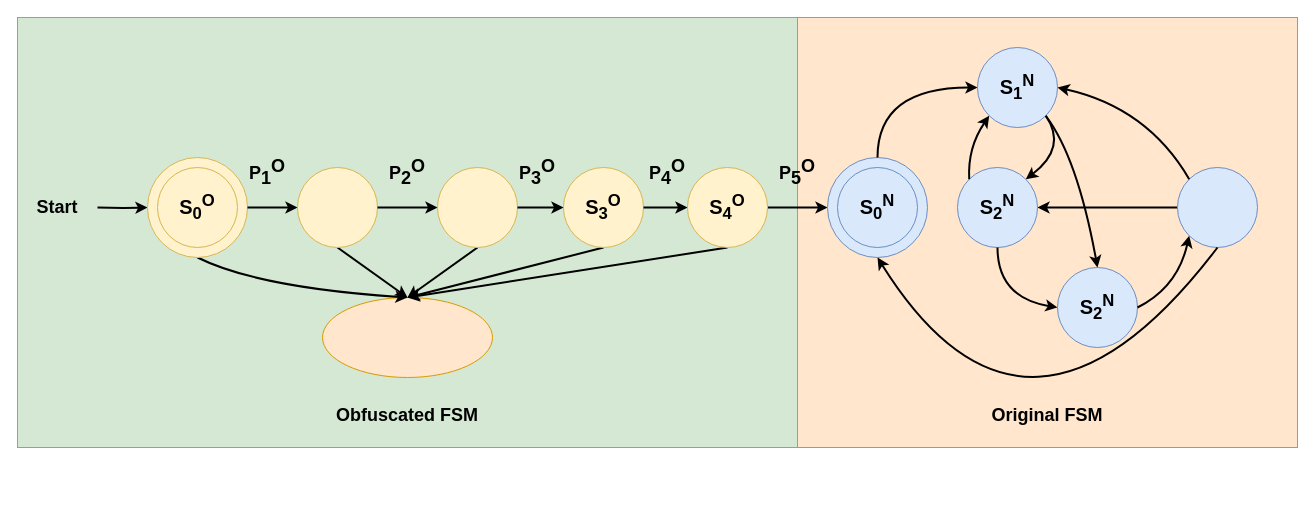
Image size: 1315x515. Some labels were removed from this diagram. The shapes that lost their labels are listed below. From the top down, each one's centre as x and y in pixels, then its label:
At point 337,207: "S 1 O".
At point 477,207: "S 2 O".
At point 1217,207: "S 3 N".
At point 407,337: "Blackhole State".
